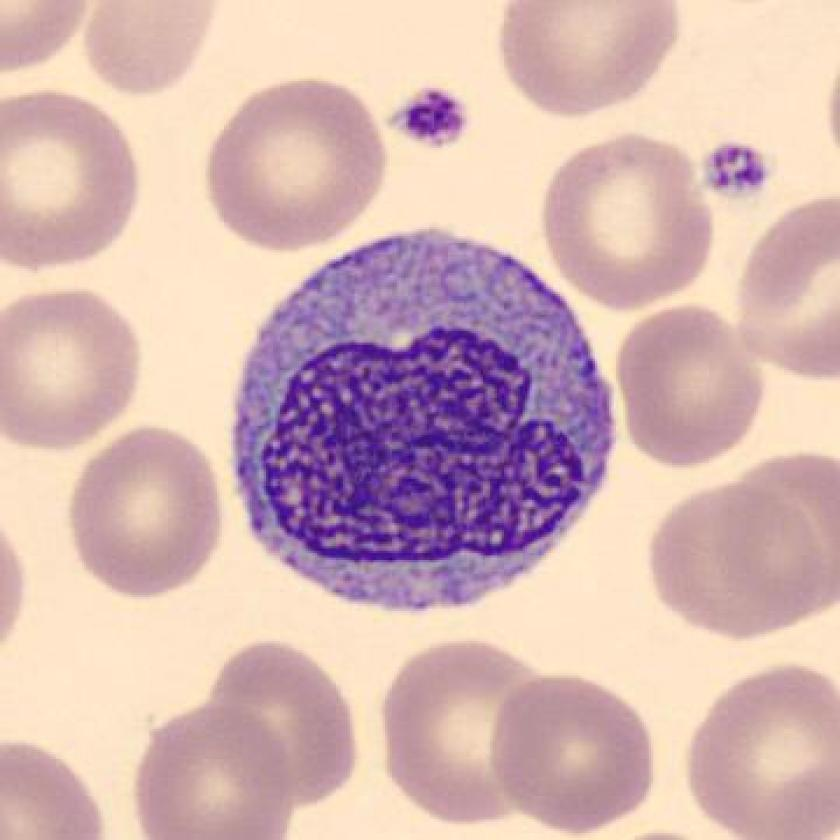monocyte: (206, 221, 629, 640)
